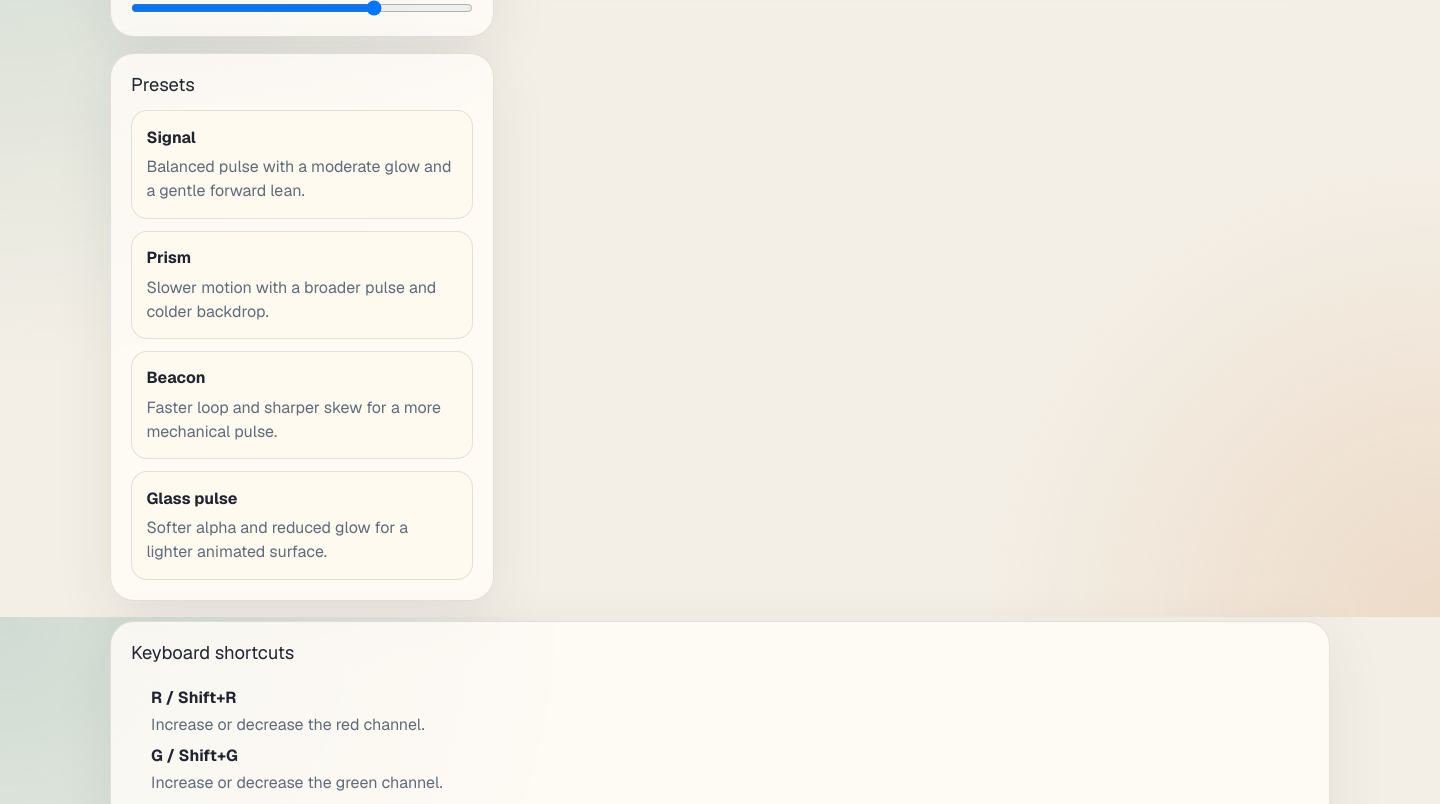
Test case: WebGpuPulseDiamondPageClient › applies presets and updates the animated summary
The width and height of the screenshot is (1440, 804).
(page scrolled)
Click the button "Beacon Faster loop and sharper skew for a more mechanical pulse." at (302, 405), box x1=131 y1=351 x2=473 y2=459
(page scrolled)
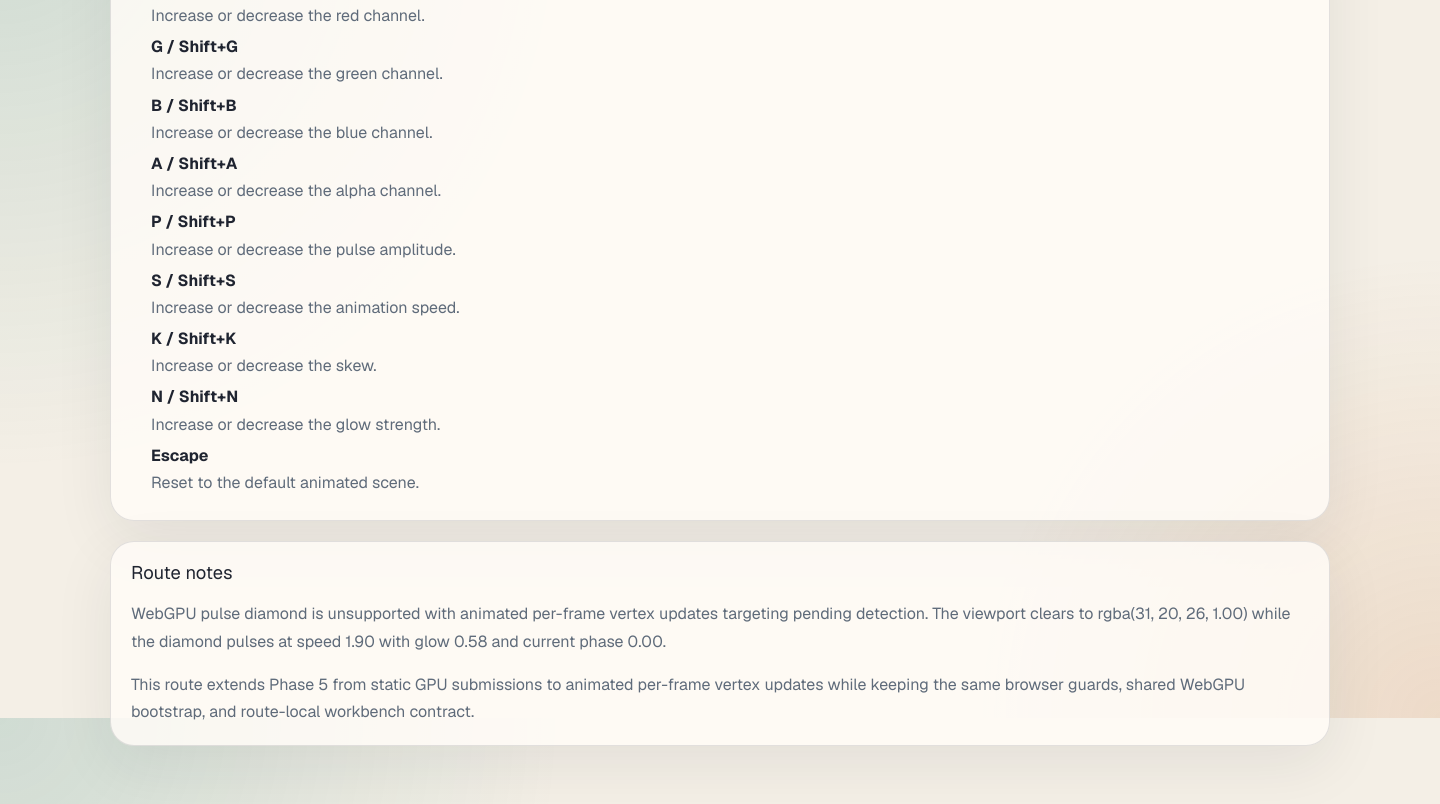
Expected: the text "speed 1.90 with glow 0.58" is shown, x1=131 y1=603 x2=1291 y2=652
